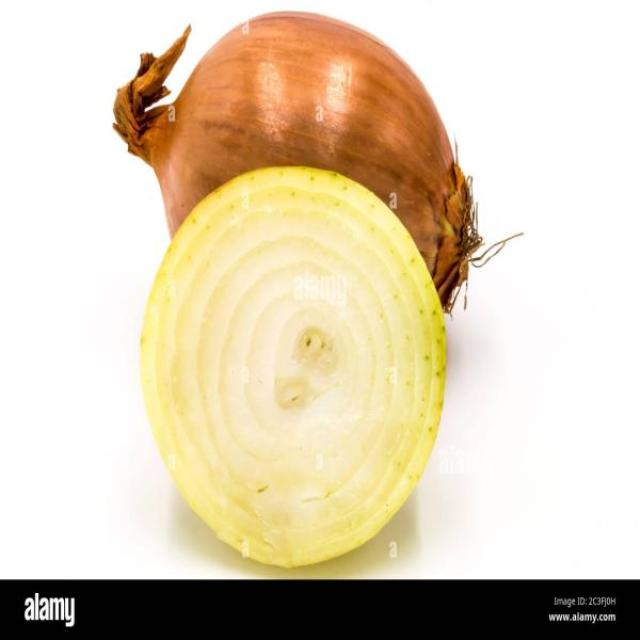Onion: (113, 11, 483, 310)
